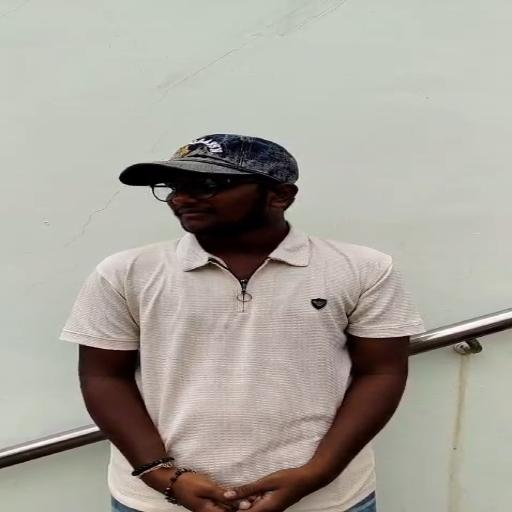employee-detectio-system: (57, 123, 428, 401)
